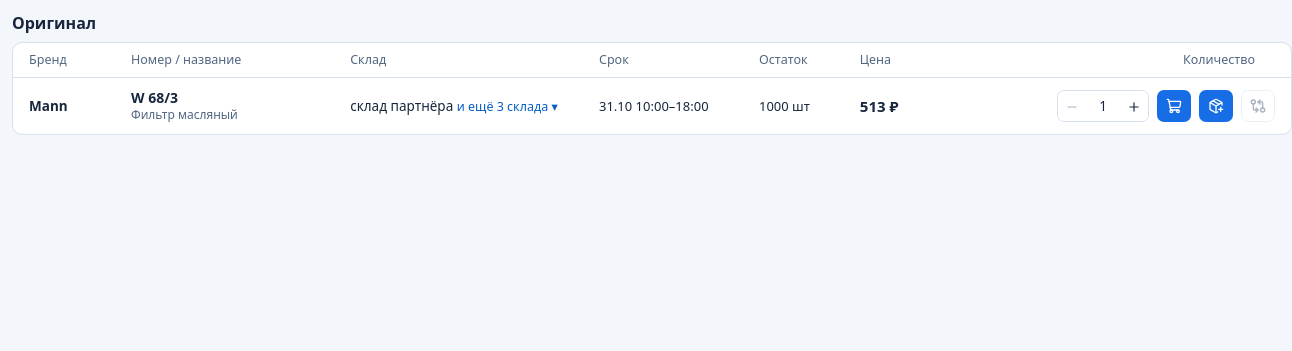
Test: PartTable › picks another warehouse from the list
Click the button "и ещё 3 склада ▾".
click(507, 106)  # box 457,98 -> 558,115
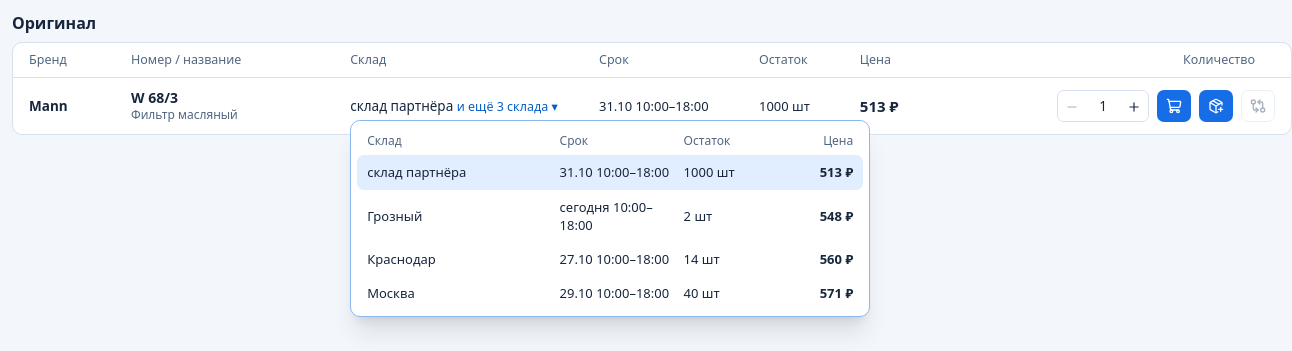
Expected: the number of options is 4
Expected: the option "склад партнёра 31.10 10:00–18:00 1000 шт 513 ₽" is shown, 357,155 -> 863,190
Click the option "Грозный сегодня 10:00–18:00 2 шт 548 ₽".
click(610, 216)  # box 357,190 -> 863,242
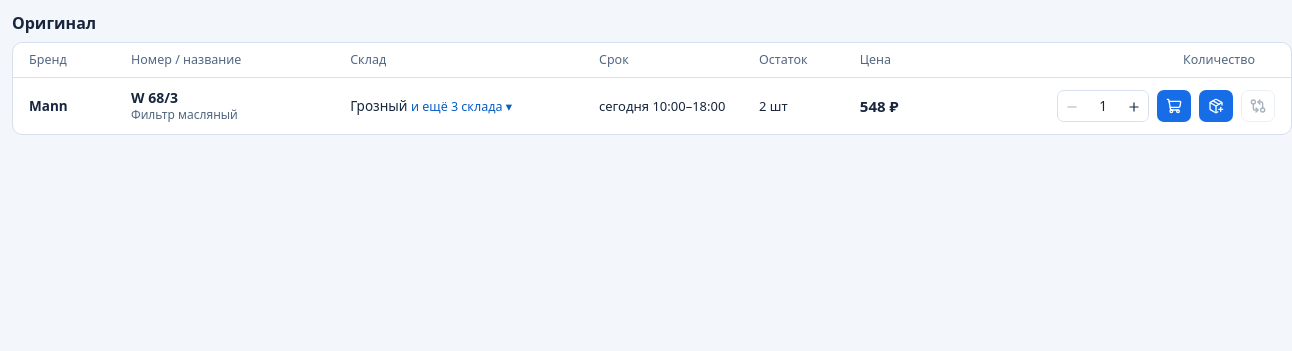
Expected: the text "548 ₽" is shown, 860,96 -> 898,117
Expected: the text "сегодня 10:00–18:00" is shown, 599,97 -> 747,115
Expected: the text "Грозный" is shown, 350,97 -> 408,115
